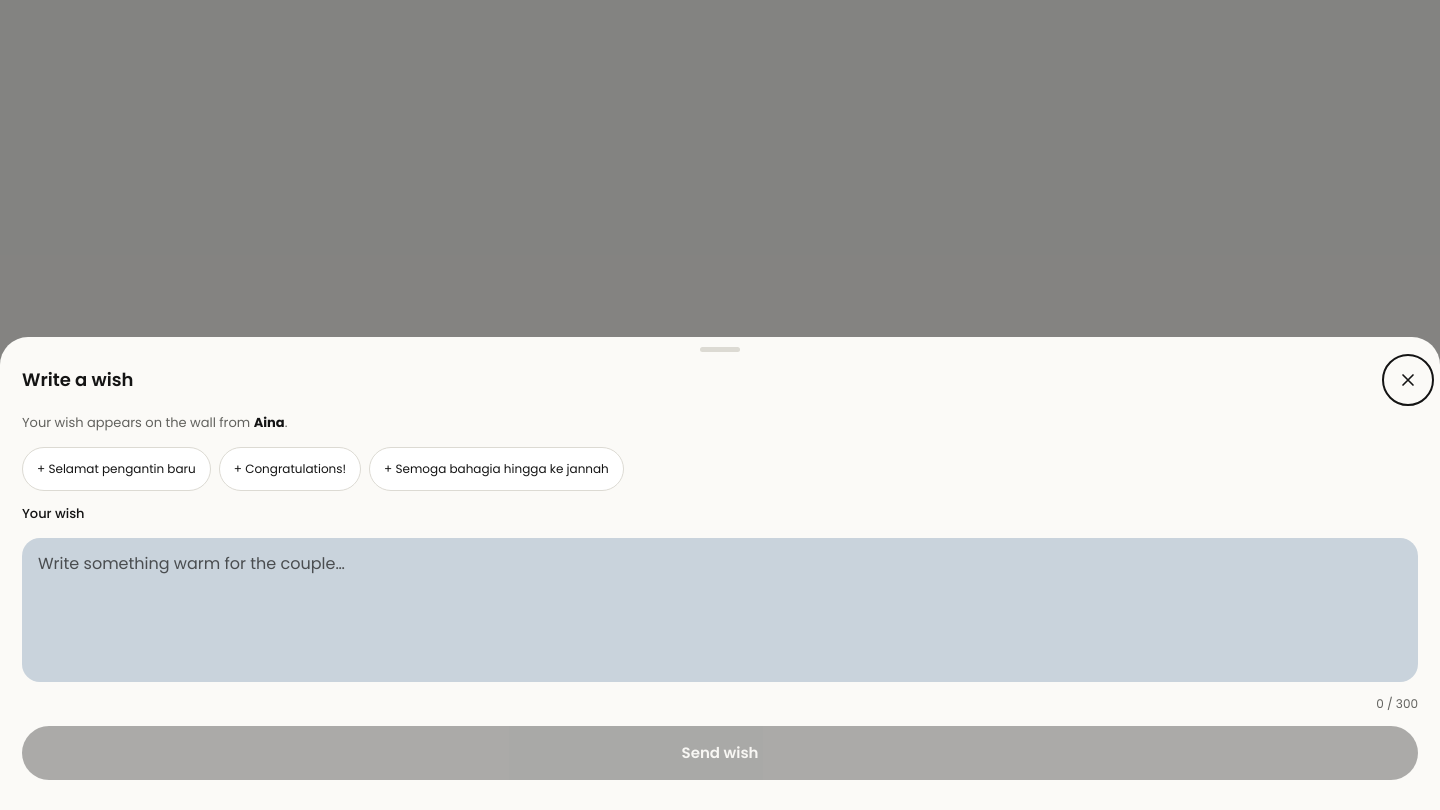
it: WishDrawer › says who the wish is from and counts characters
Check: the text "Aina" is shown, box [254,413,285,432]
Check: the text "0 / 300" is shown, box [1376,696,1418,712]
Type "Selamat!" into the text box labelled "Your wish".
click(720, 610); type("Selamat!")  # box [22,538,1418,682]
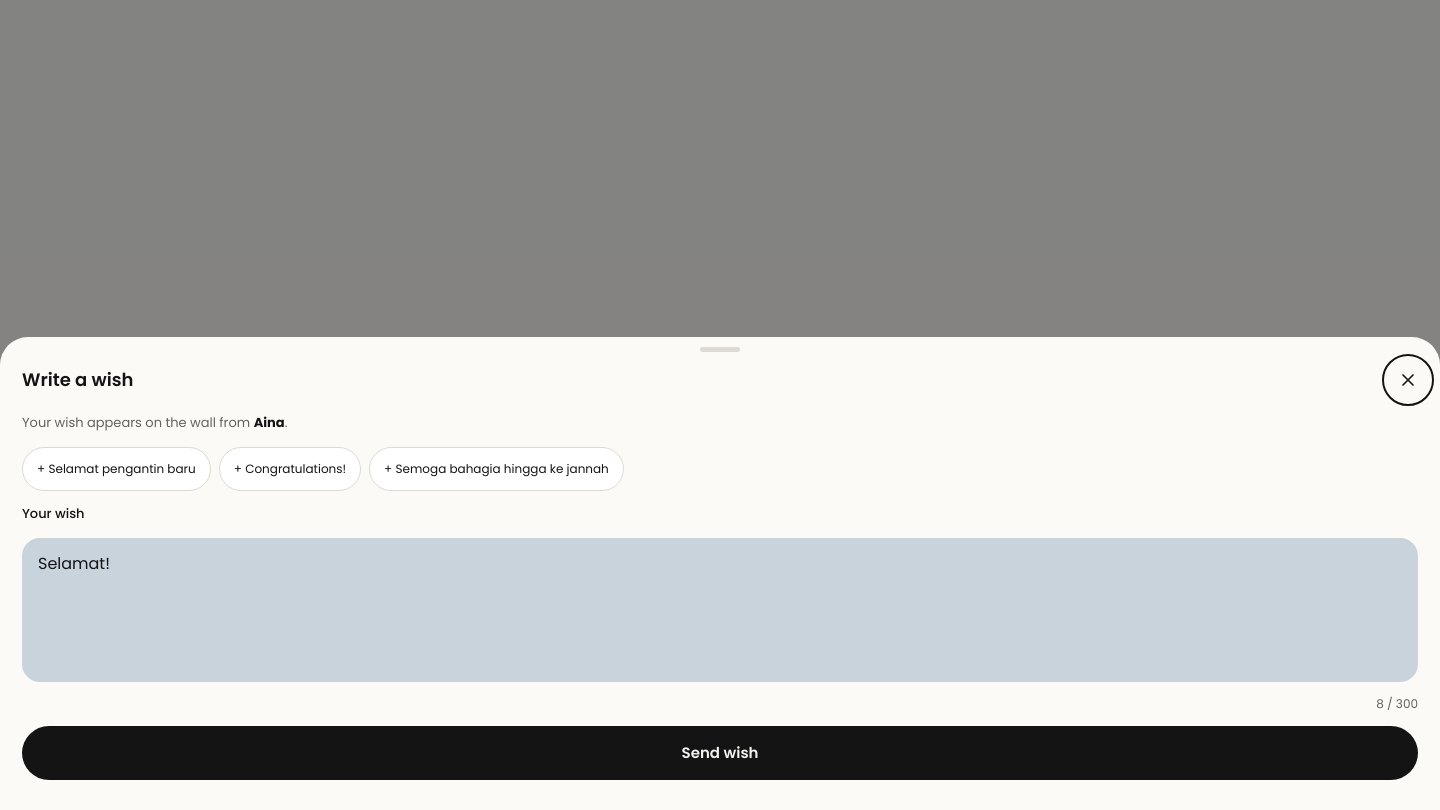
Check: the text "8 / 300" is shown, box [1376,696,1418,712]
